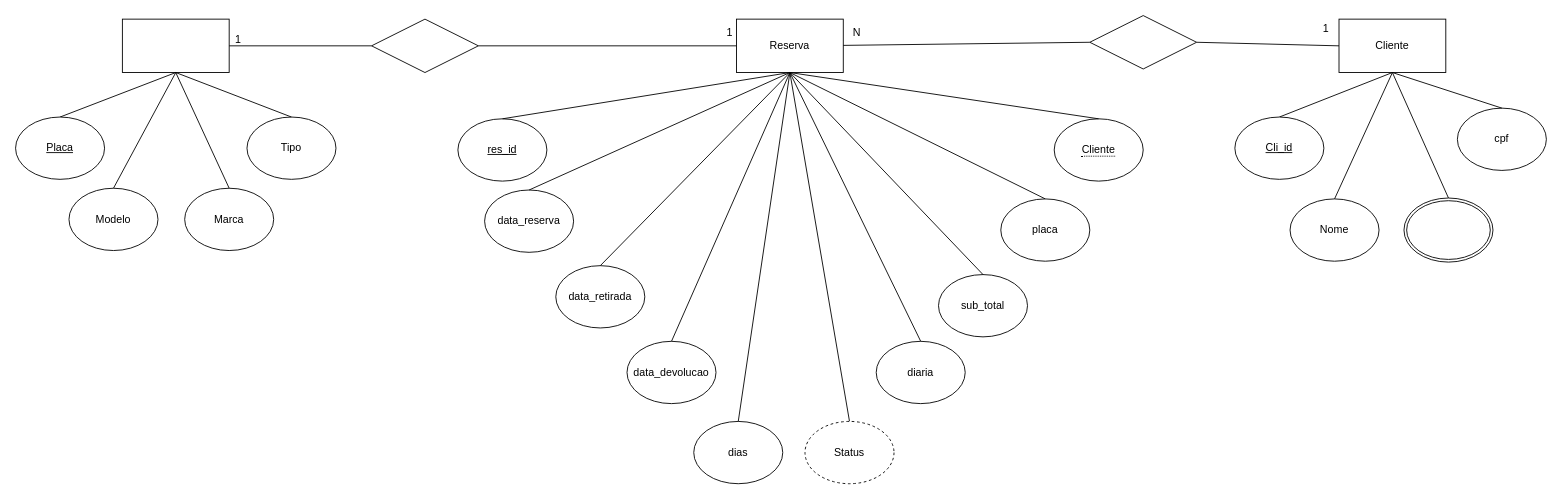
Image size: 1562x499. Some labels were removed from this diagram. The shapes that lost their labels are listed below. From the top down, each one's centre as x and y in pixels, then its label:
(175,45): Veiculo
(424,45): Possui
(1143,42): Contém
(1448,229): Telefone
